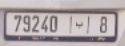0: (49, 14, 59, 32)
2: (31, 14, 41, 33)
4: (40, 14, 49, 33)
7: (12, 14, 21, 32)
8: (99, 15, 109, 34)
9: (22, 14, 31, 33)
b: (74, 20, 84, 30)
